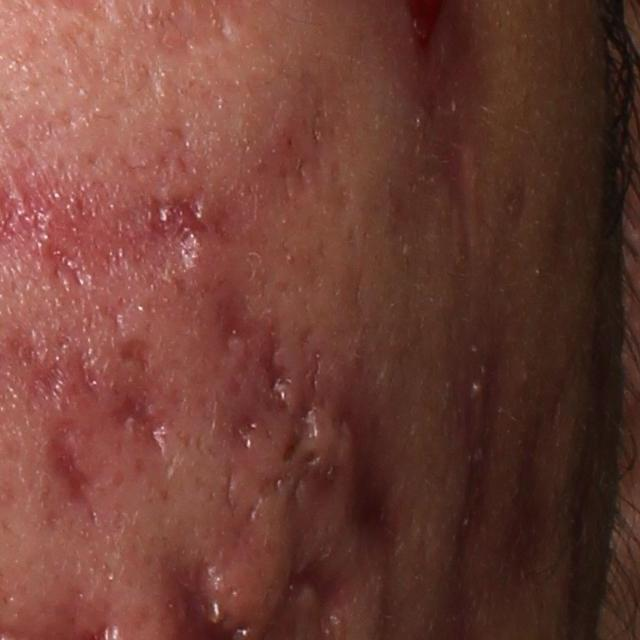atrophic_scar: (498, 348, 573, 593), (431, 117, 483, 271), (343, 410, 400, 542), (41, 412, 95, 520), (106, 389, 180, 454), (282, 365, 321, 461), (217, 297, 265, 354), (245, 470, 291, 525), (256, 323, 289, 395), (504, 151, 532, 229), (226, 412, 262, 453), (117, 337, 153, 375)
